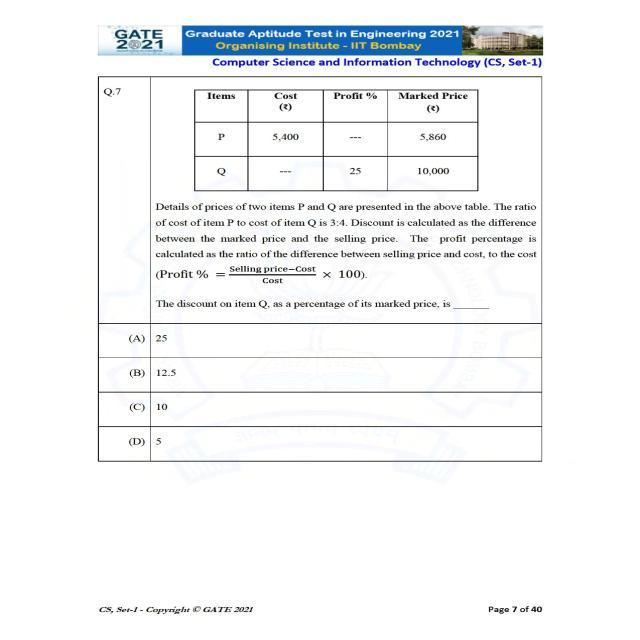Answer_Block: (51, 322, 604, 554)
Question_Answer_Block: (51, 69, 604, 553)
Question_Block: (51, 69, 604, 323)
Question_Paper_Area: (51, 69, 604, 553)
